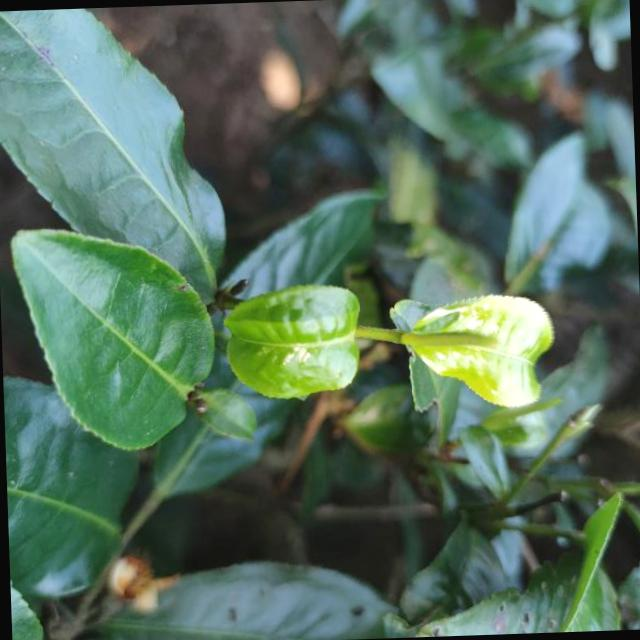Stem: (356, 325, 400, 341)
